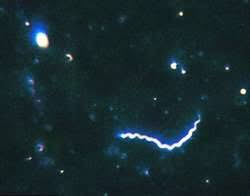sphyillis: (118, 113, 201, 153)
